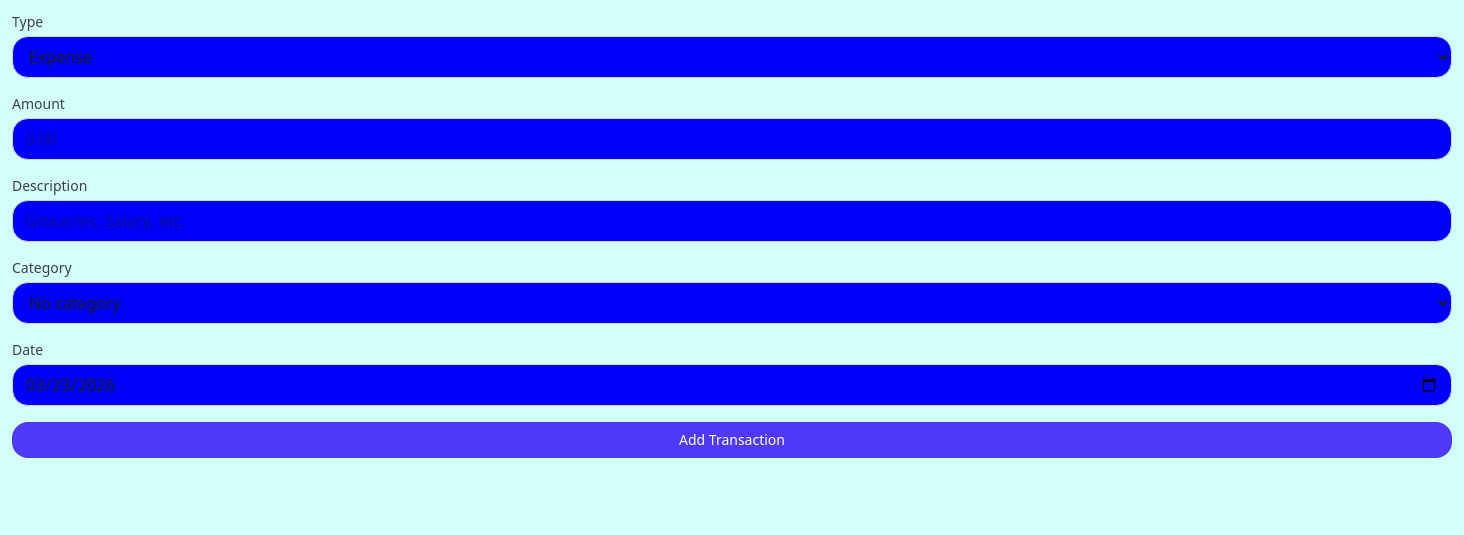
TransactionForm › displays error message on submit failure
This screenshot has width=1464, height=535.
Step 1. Type "50" into the number field labelled "Amount" → (732, 139), box x1=12 y1=118 x2=1452 y2=160
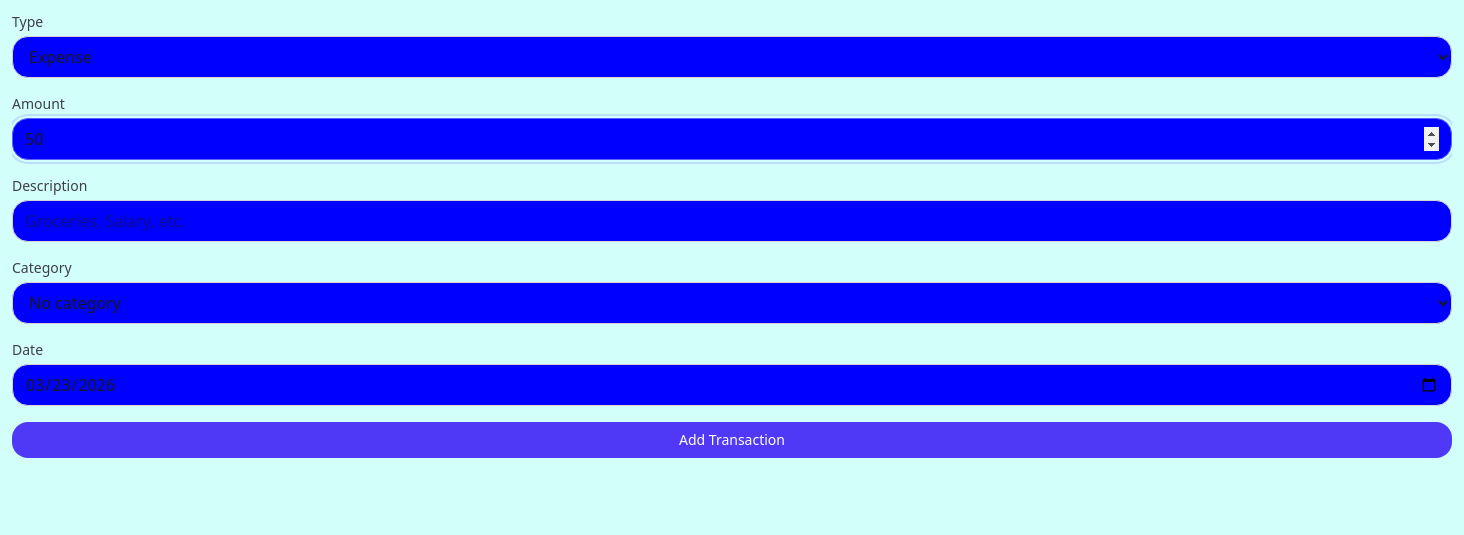
Step 2. Type "Test" into the field labelled "Description" → (732, 221), box x1=12 y1=200 x2=1452 y2=242
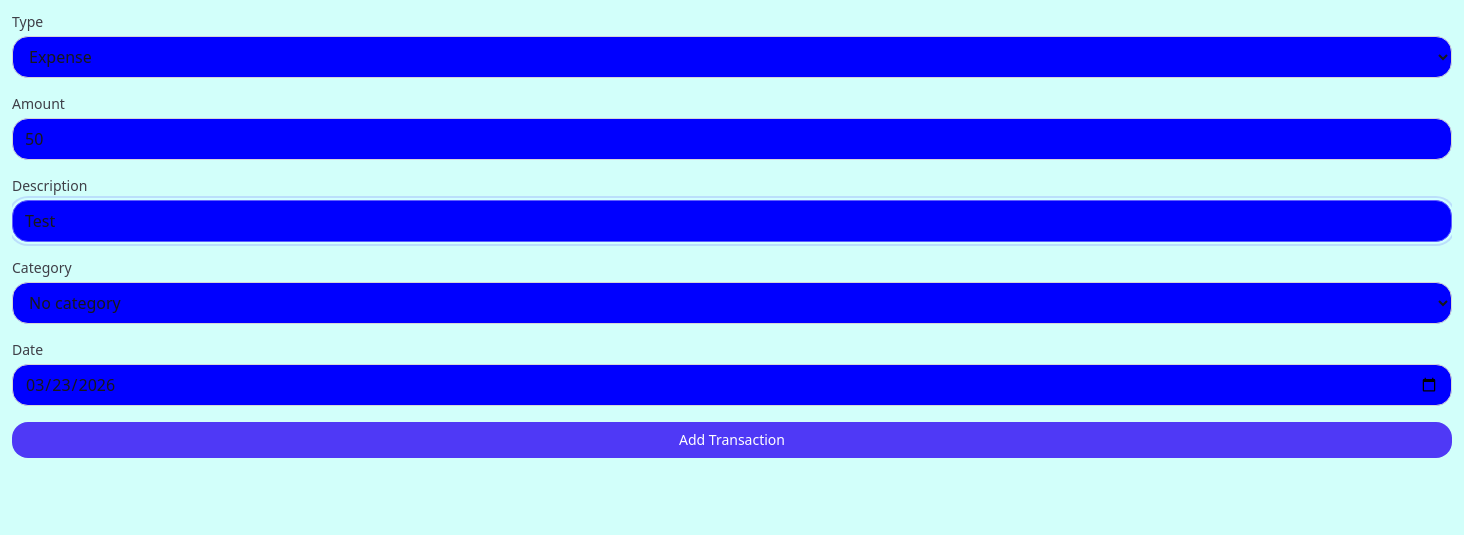
Step 3. Click the button "Add Transaction" → (732, 440), box x1=12 y1=422 x2=1452 y2=458
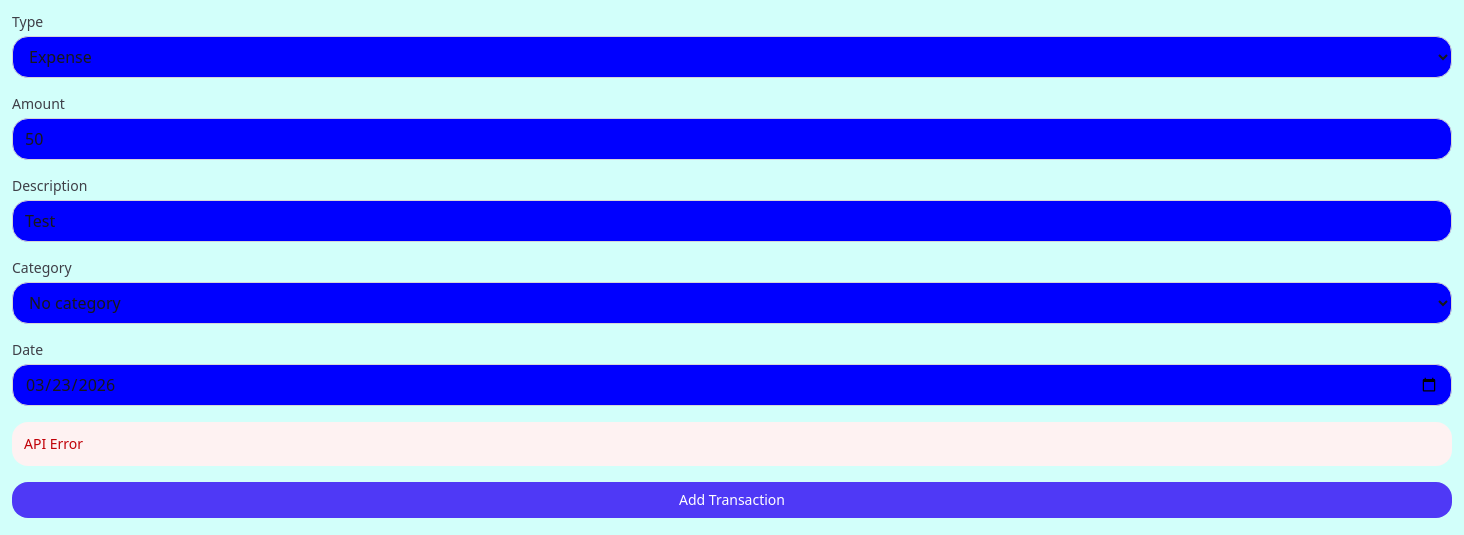
Check: the text "API Error" is shown, box x1=12 y1=422 x2=1452 y2=466
